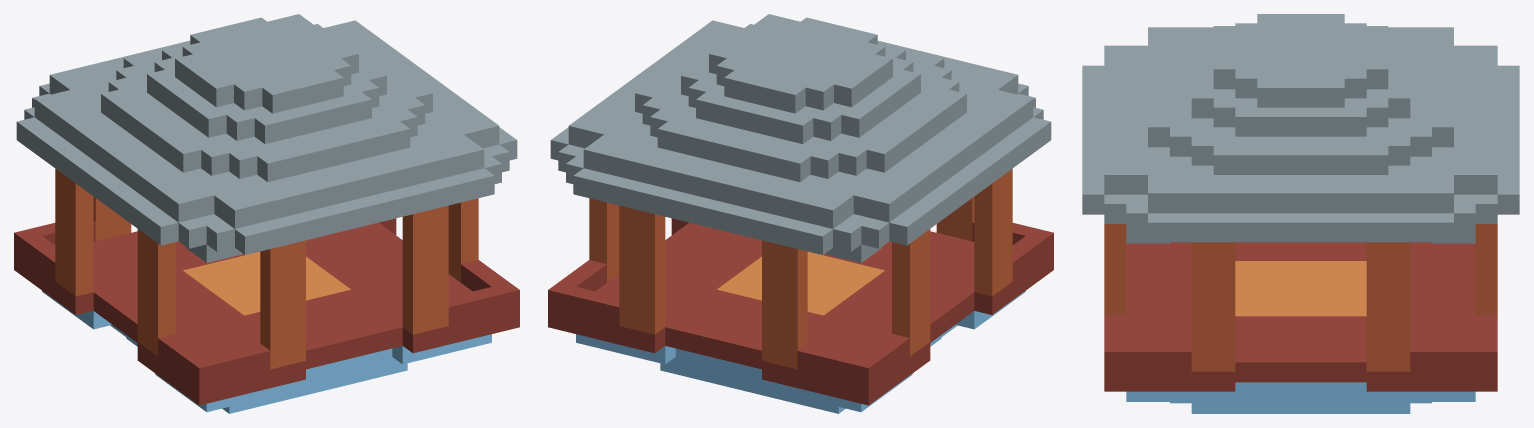
File: Lift.obj
The picture shows the model from 3 angles, left to right: view 1: azimuth 30°, elevation 25°; view 2: azimuth 150°, elevation 25°; view 3: azimuth 270°, elevation 25°; orthographic projection. The views are drawn at different scales.
Size of the model in its own units: 2 by 1.6 by 2.
Materials: 1 (1 with a texture image).
